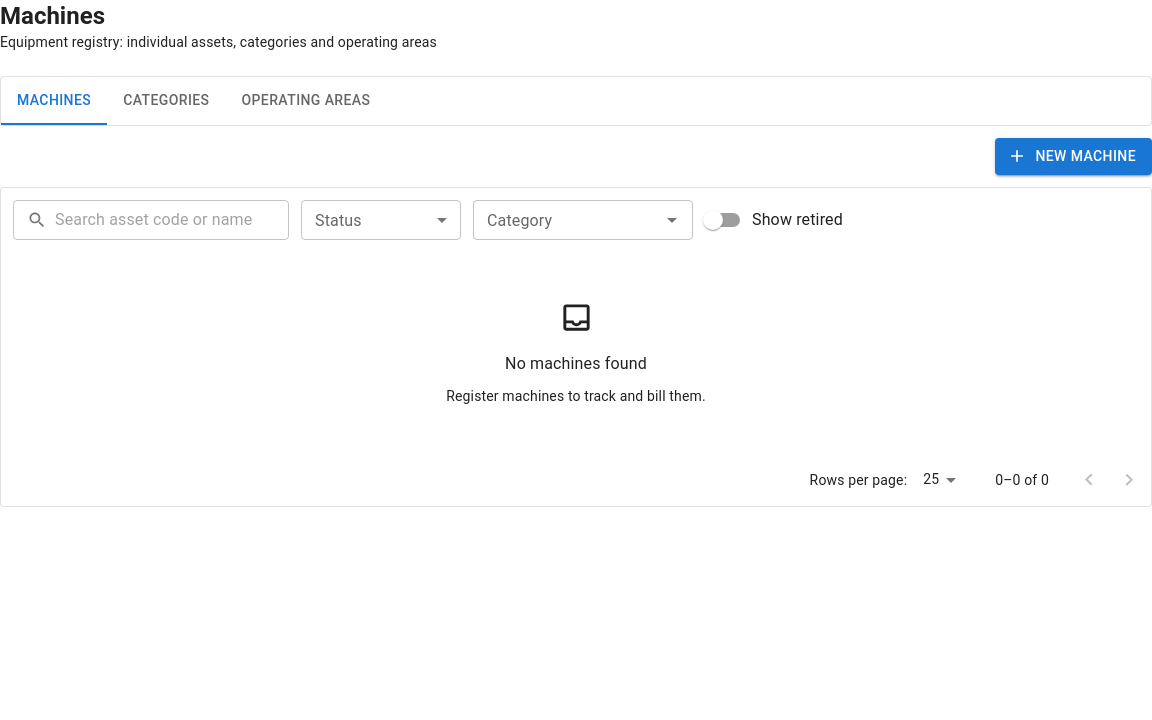
it: operating areas › shows a business refusal on deactivate
Click the tab "Operating areas" at x=306, y=101, box [226, 77, 386, 125]
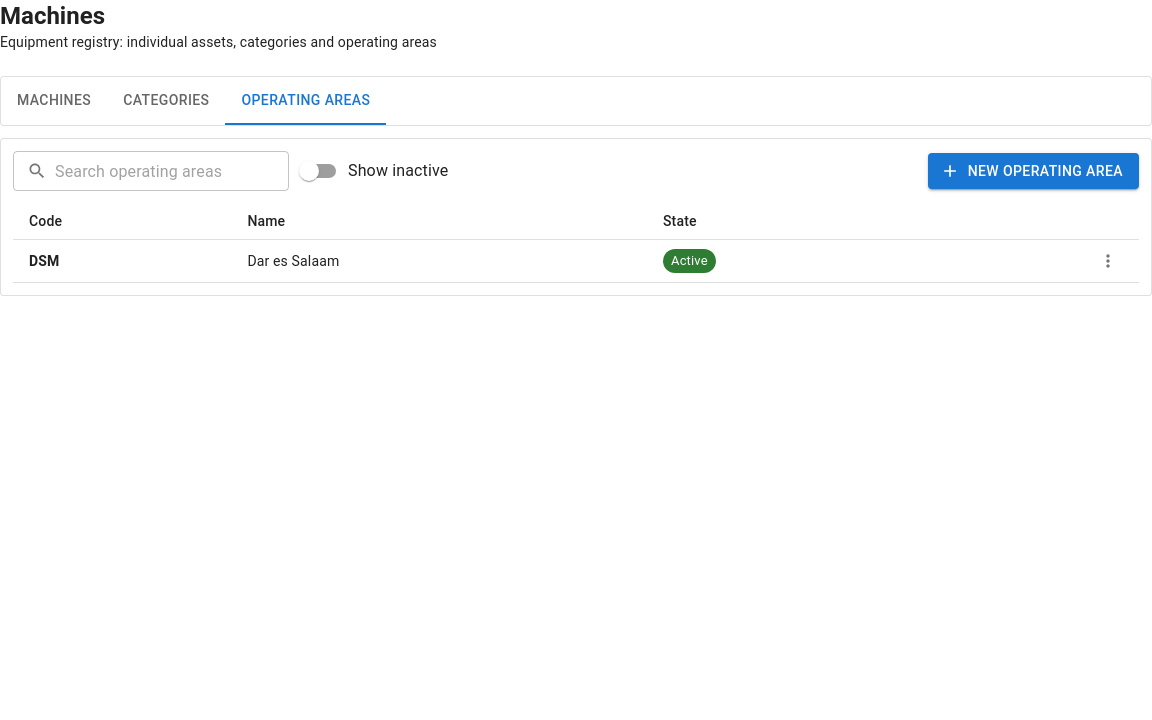
Click the button named "Actions for DSM · Dar es Salaam" at x=1108, y=261, box [1093, 246, 1123, 276]
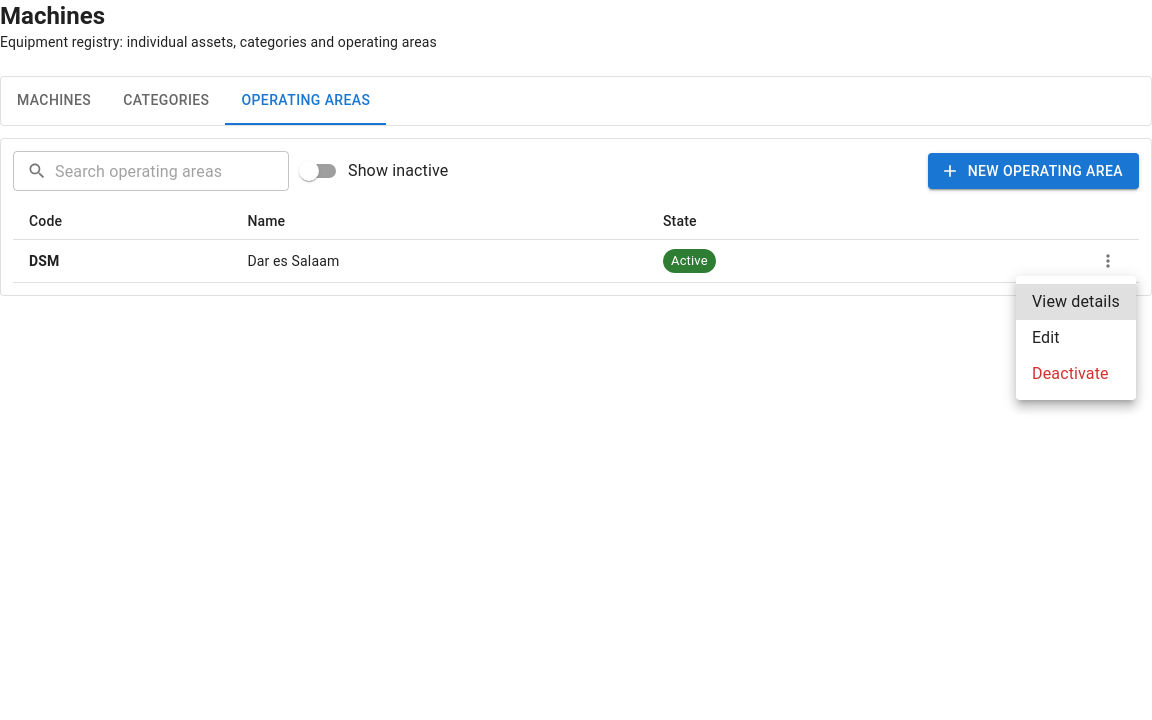
Click the menu item "Deactivate" at x=1070, y=374, box [1032, 364, 1109, 383]
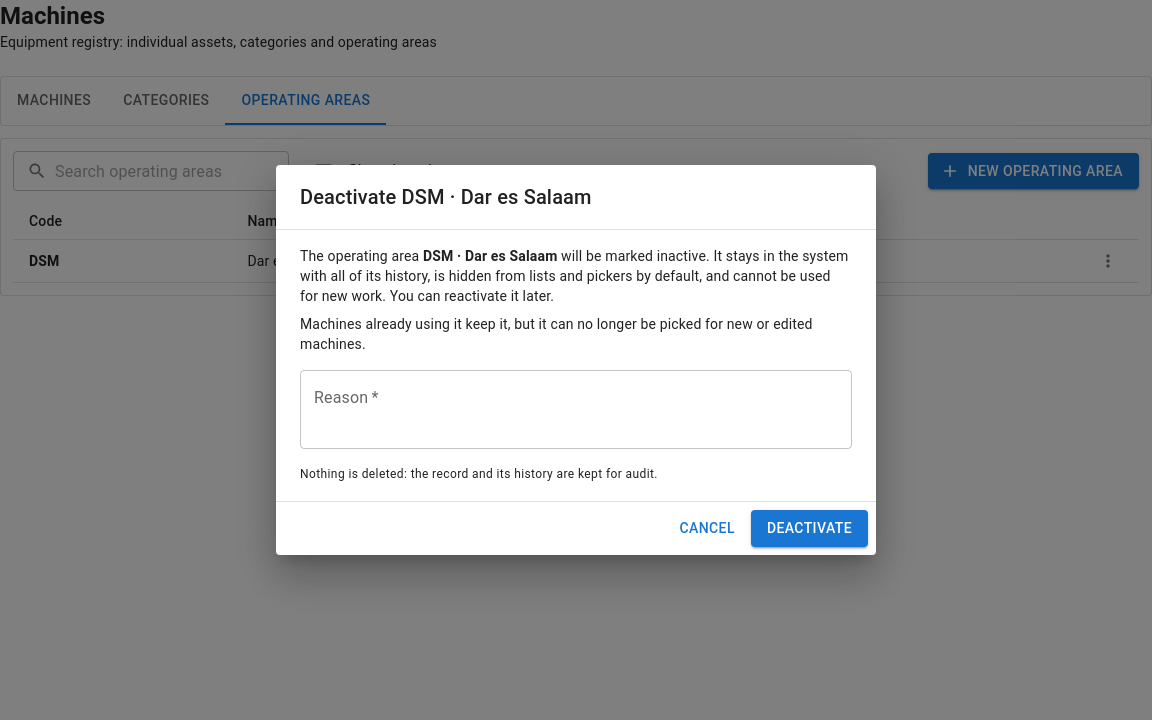
Type "Depot closed" into the text box labelled "Reason *" at x=576, y=410, box [314, 387, 838, 433]
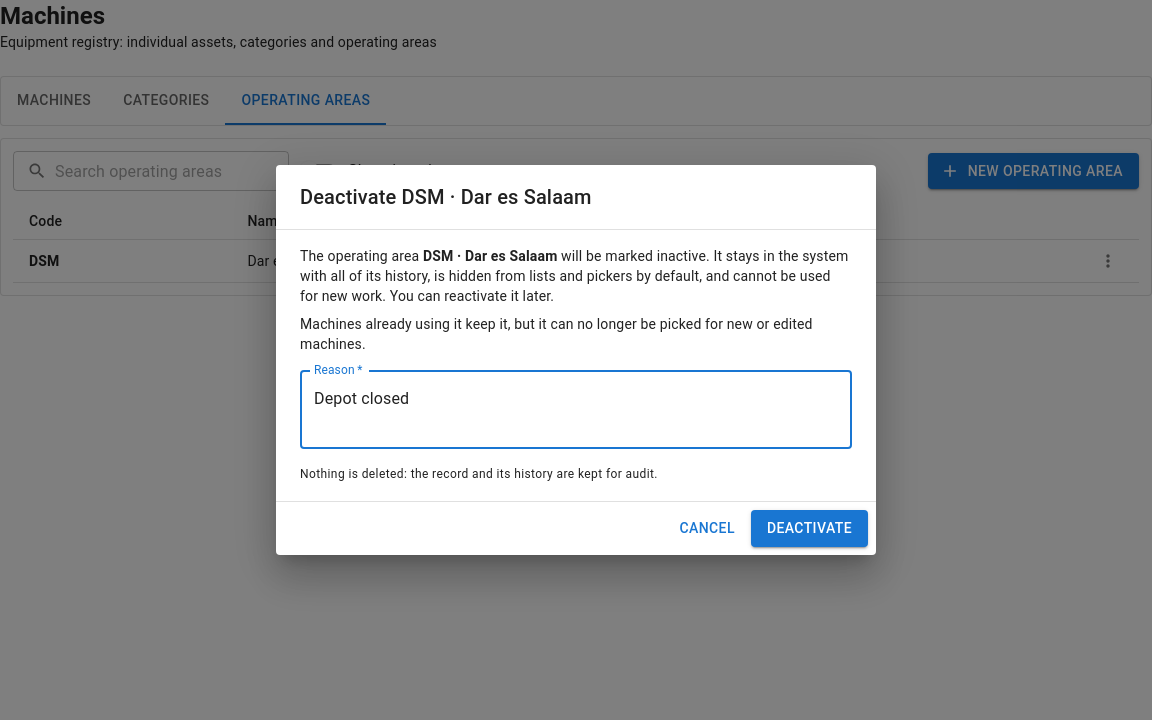
Click the button "Deactivate" at x=809, y=528, box [751, 510, 868, 547]
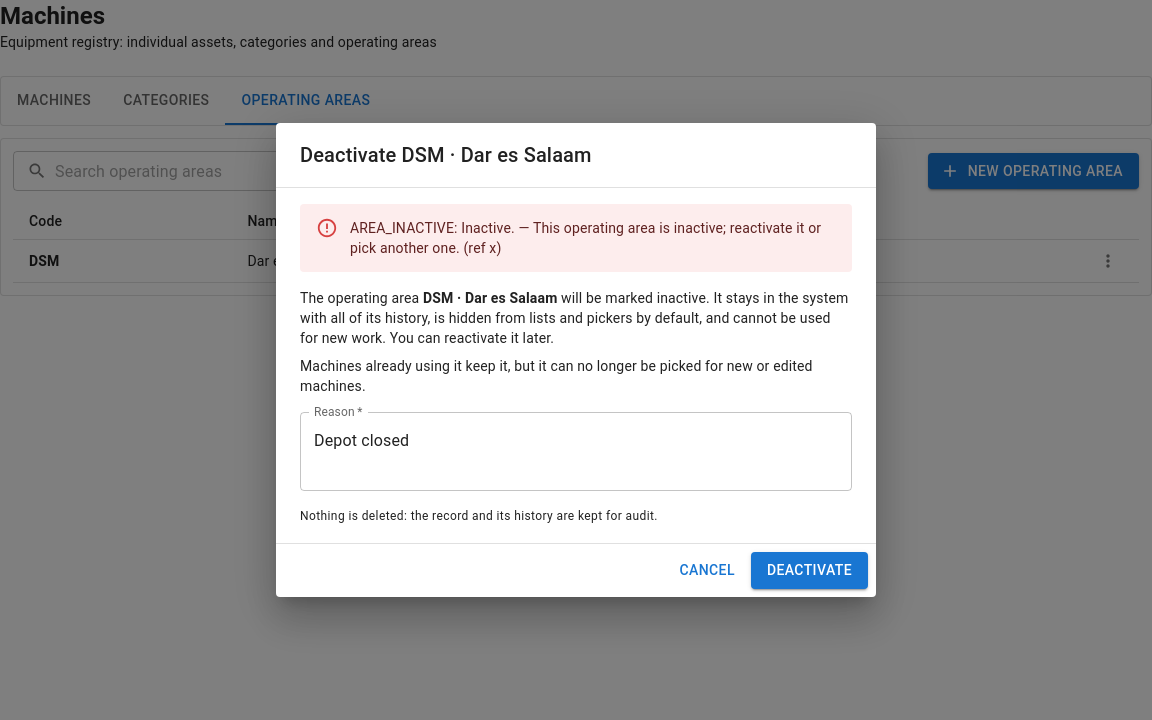
Expected: the text "AREA_INACTIVE: Inactive." is shown, [350, 220, 821, 256]
